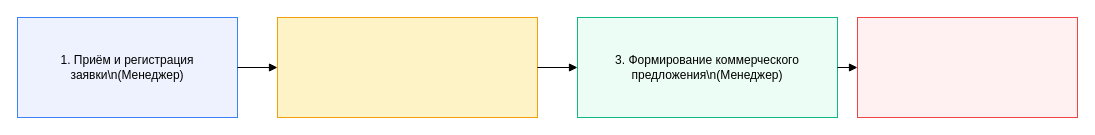
This 1095x135 diagram has some shape labels left out. The shapes that lost their labels are listed below. From the top down, each one's centre as x and y in pixels, then its label:
At pixel 407 67: "2. Техническая проверка и согласование\n(Инженер)".
At pixel 967 67: "4. Отгрузка и закрытие\n(Менеджер)".
